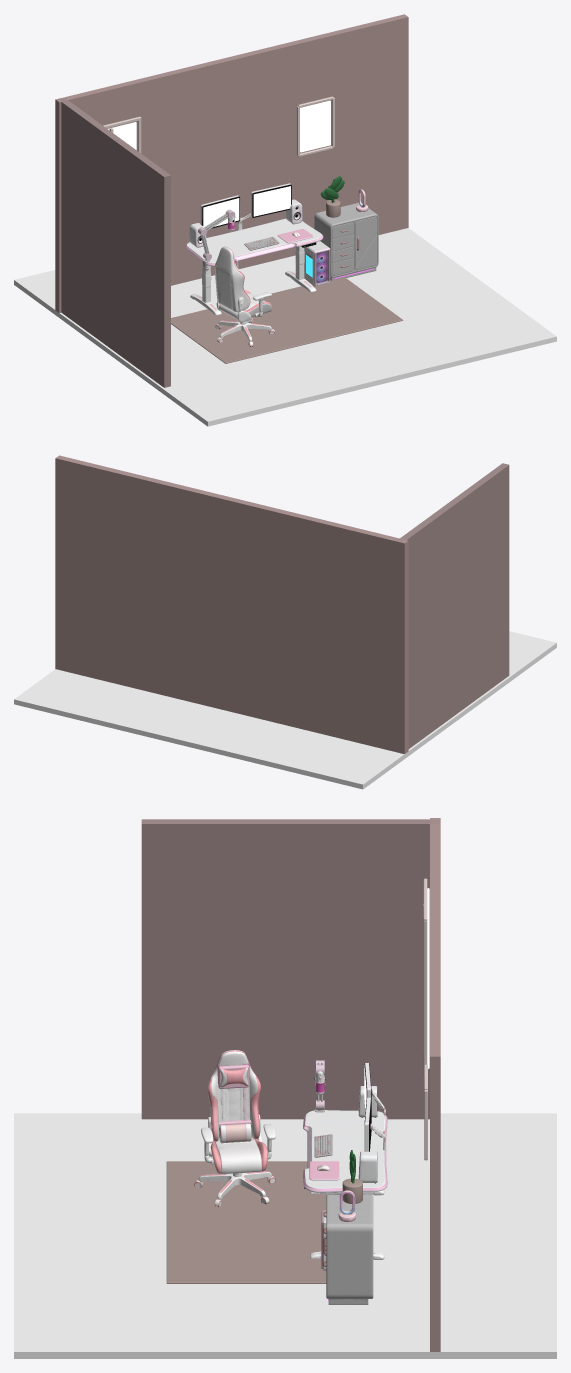
The picture shows the model from 3 angles, top to bottom: view 1: azimuth 30°, elevation 25°; view 2: azimuth 150°, elevation 25°; view 3: azimuth 270°, elevation 25°; orthographic projection. The views are drawn at different scales.
Parts seen in each view (by area): view 1: Architecture_Back_Wall, Architecture_Floor, Architecture_Left_Wall, Decor_Rug, GEO_Desk_Moving_Top, GEO_Chair_Swivel_Upper, GEO_Cabinet_Body, Wall_Art_Art, GEO_Door_Right_Front, 04-pc-tower_mesh_01, Screen_Right, GEO_Desk_Fixed_Base (+2 smaller); view 2: Architecture_Back_Wall, Architecture_Left_Wall, Architecture_Floor; view 3: Architecture_Floor, Architecture_Left_Wall, Decor_Rug, Architecture_Back_Wall, GEO_Chair_Swivel_Upper, GEO_Cabinet_Body, GEO_Desk_Moving_Top, GEO_Chair_Static_Base, Window_Frame_V.001.
Part boxes in pixels (x1,y1,x2,y2): Architecture_Back_Wall: (55, 14, 408, 312); Architecture_Floor: (14, 228, 556, 426); Architecture_Left_Wall: (58, 98, 170, 387); Decor_Rug: (171, 277, 403, 363); GEO_Desk_Moving_Top: (185, 218, 323, 274); GEO_Chair_Swivel_Upper: (215, 246, 272, 321); GEO_Cabinet_Body: (314, 202, 378, 280); Wall_Art_Art: (300, 100, 330, 152); GEO_Door_Right_Front: (355, 216, 377, 270); 04-pc-tower_mesh_01: (304, 241, 330, 286); Screen_Right: (253, 186, 290, 216); GEO_Desk_Fixed_Base: (190, 263, 316, 315); Architecture_Back_Wall: (55, 455, 408, 753); Architecture_Left_Wall: (396, 463, 509, 748); Architecture_Floor: (14, 631, 556, 789); Architecture_Floor: (14, 1113, 556, 1358); Architecture_Left_Wall: (141, 819, 440, 1119); Decor_Rug: (166, 1161, 334, 1283); Architecture_Back_Wall: (430, 818, 440, 1351); GEO_Chair_Swivel_Upper: (201, 1050, 275, 1173); GEO_Cabinet_Body: (326, 1194, 373, 1304); GEO_Desk_Moving_Top: (303, 1110, 387, 1194); GEO_Chair_Static_Base: (194, 1171, 275, 1206); Window_Frame_V.001: (423, 921, 427, 1075).
Bounding box in the file's own units: 5.2 × 3.07 × 5.
Materials: 32 (13 with a texture image).
